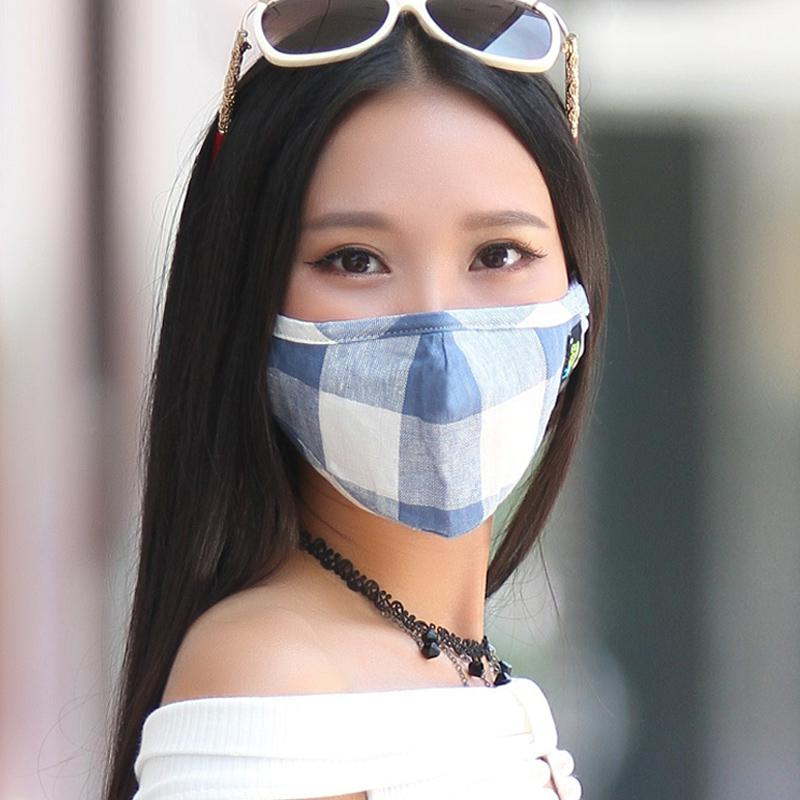OK: (265, 160, 581, 516)
